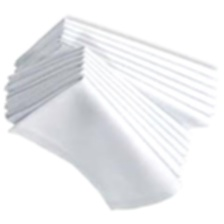tissue: (0, 42, 197, 213), (12, 14, 224, 131)
